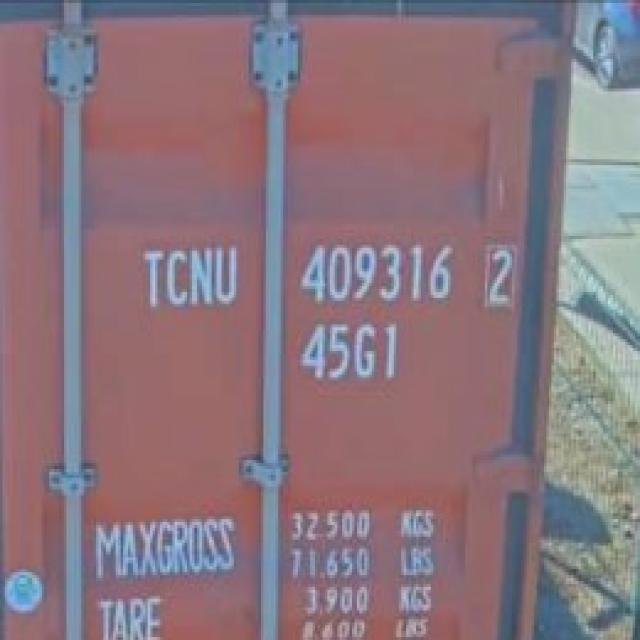dv: (479, 241, 516, 308)
owner: (134, 240, 242, 316)
serial: (298, 235, 458, 310)
size: (296, 316, 406, 388)
